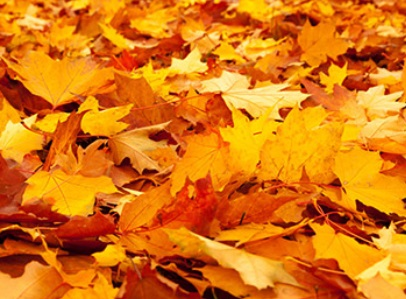Orange: (13, 7, 401, 290)
